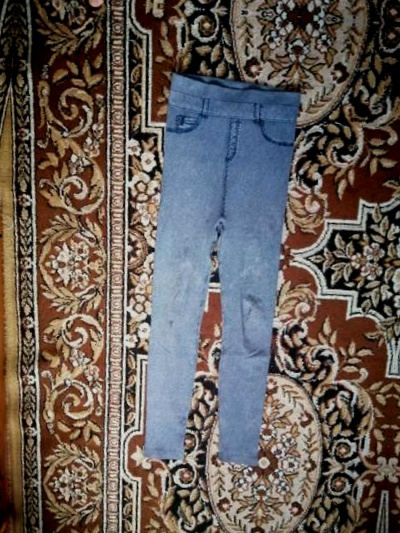Pants: (98, 38, 320, 460)
